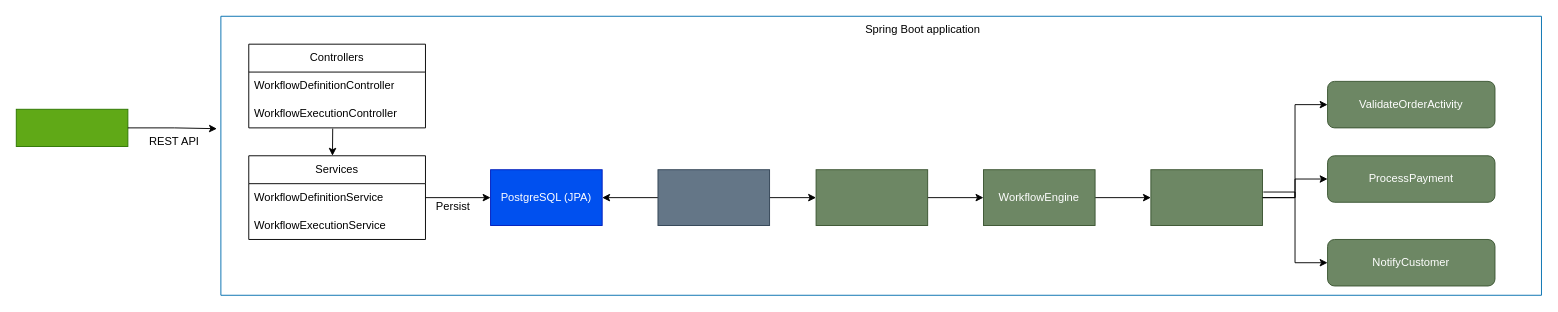
Image size: 1558x312. Some labels were removed from this diagram. The shapes that lost their labels are listed below. From the top down, each one's centre as x and y in pixels, then its label:
At point (71, 127): "Client".
At point (713, 197): "Execution Queue".
At point (871, 197): "WorkflowWorker (Virtual thread)".
At point (1206, 197): "ActivityRegistry".
